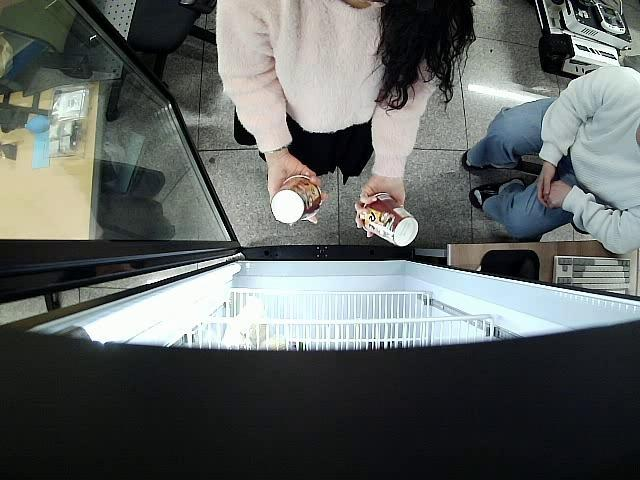06_nuguri_S: (361, 190, 418, 246), (271, 176, 320, 224)
